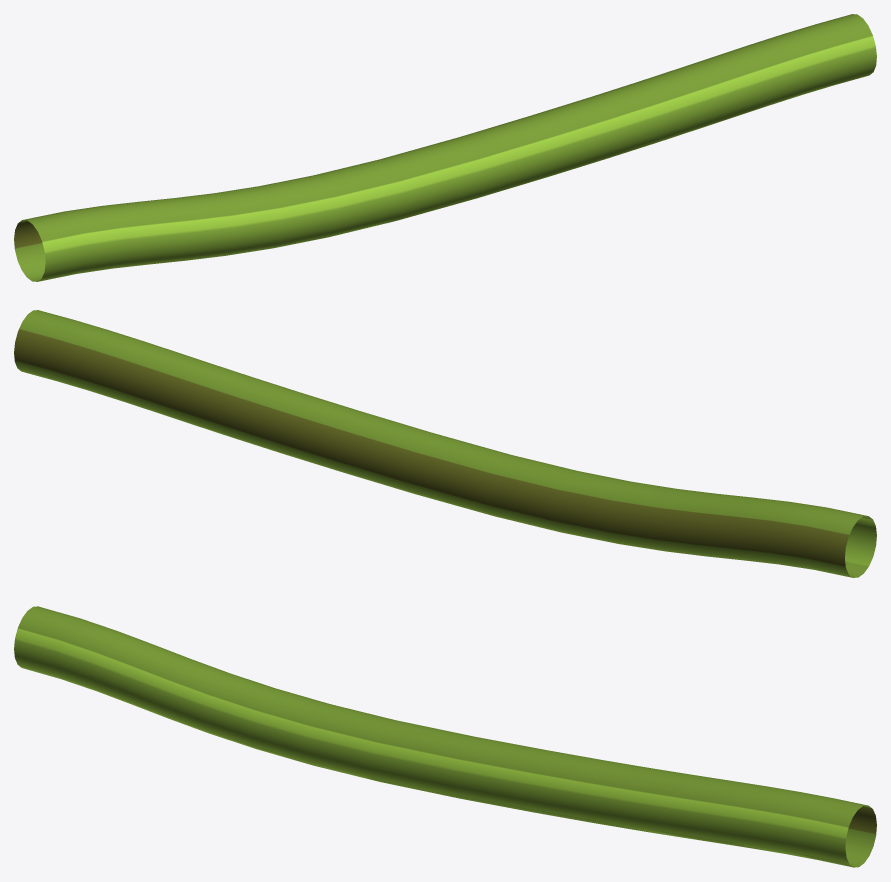
Rendered from SM_Wire_Big_Green_Long.fbx.
3 views of the same model, one above another, from view 1: azimuth 30°, elevation 25°; view 2: azimuth 150°, elevation 25°; view 3: azimuth 330°, elevation 25° (orthographic).
Visible parts, largest first — view 1: Sm_Wire_Big_Green_Long; view 2: Sm_Wire_Big_Green_Long; view 3: Sm_Wire_Big_Green_Long.
Part boxes in pixels (<box>): Sm_Wire_Big_Green_Long: <box>14,14,876,281</box>; Sm_Wire_Big_Green_Long: <box>14,310,876,577</box>; Sm_Wire_Big_Green_Long: <box>14,606,876,867</box>.
Bounding box in the file's own units: 2.04 × 1.37 × 20.48.
1 material, 1 textured.
